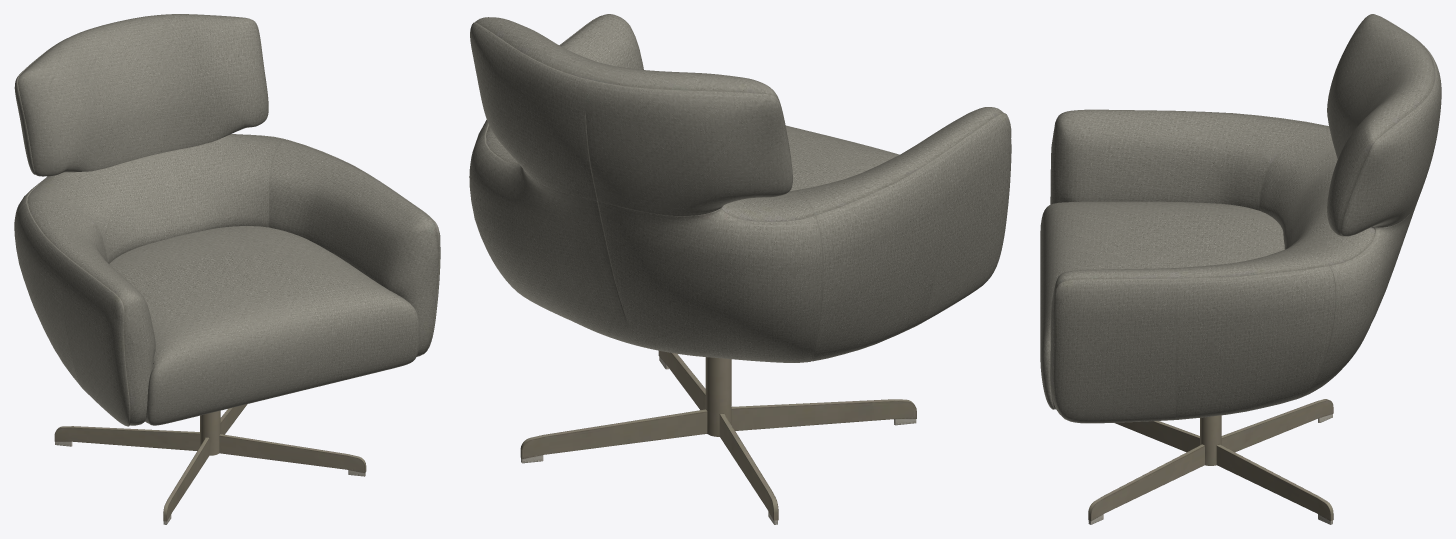
The model's file is B07QGSZ38G-mobile.glb.
3 views of the same model, side by side, from view 1: azimuth 30°, elevation 25°; view 2: azimuth 150°, elevation 25°; view 3: azimuth 270°, elevation 25° (orthographic). The views are drawn at different scales.
Parts seen in each view (by area): view 1: RootNode; view 2: RootNode; view 3: RootNode.
Part boxes in pixels (x1,y1,x2,y2): RootNode: (14,14,440,524); RootNode: (469,14,1011,524); RootNode: (1040,14,1441,524).
Size of the model in its own units: 0.76 by 0.81 by 0.73.
1 material, 1 textured.
